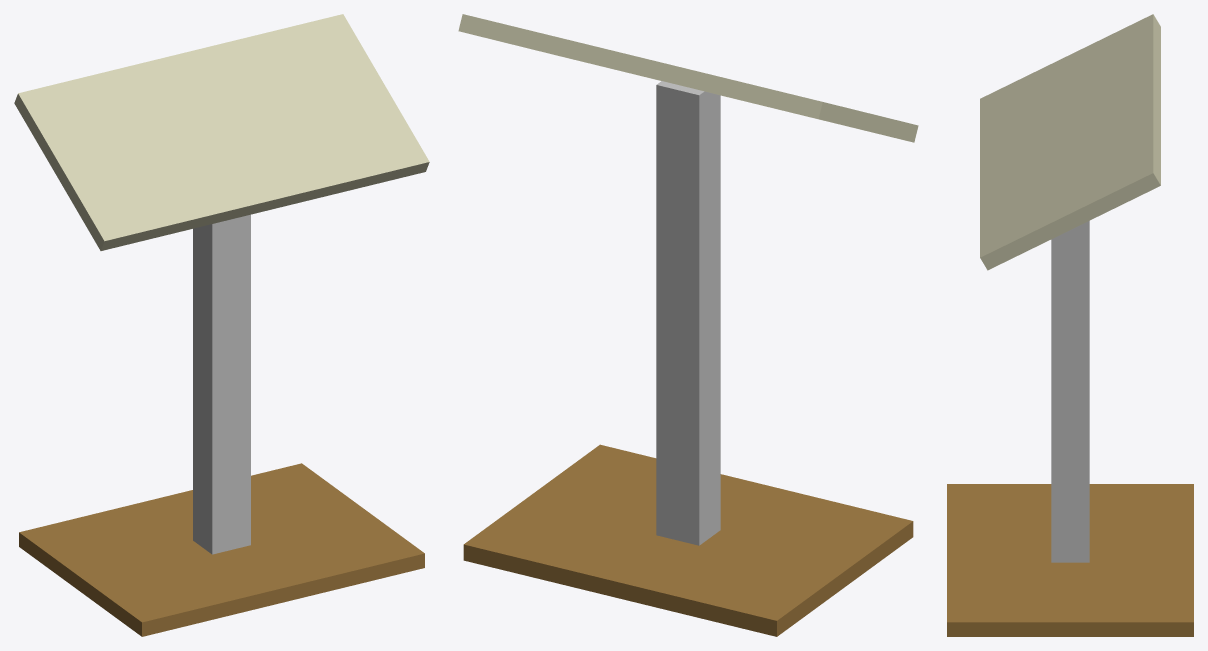
Rendered from Atril 1.fbx.
The picture shows the model from 3 angles, left to right: view 1: azimuth 30°, elevation 25°; view 2: azimuth 150°, elevation 25°; view 3: azimuth 270°, elevation 25°; orthographic projection. The views are drawn at different scales.
Visible parts, largest first — view 1: atril 1; view 2: atril 1; view 3: atril 1.
Boxes of the visible parts, x1,y1,x2,y2 form: atril 1: (14,14,429,636); atril 1: (458,14,918,636); atril 1: (947,14,1193,636).
Size of the model in its own units: 230 by 320 by 151.
